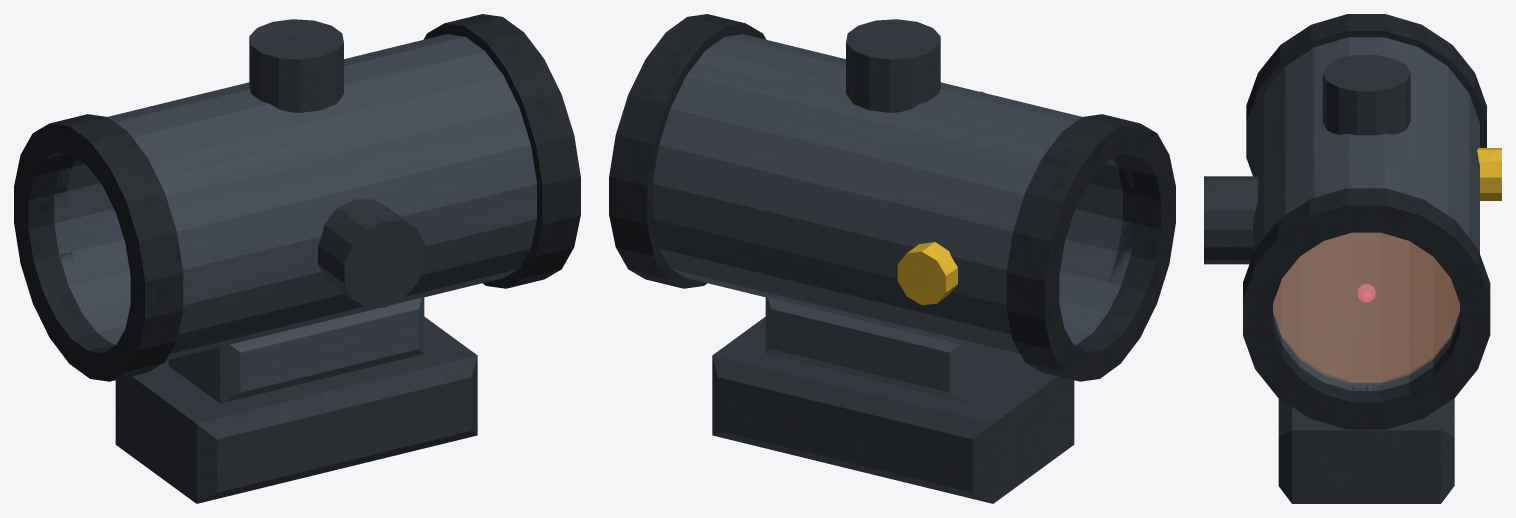
File: sight_red_dot_v2.glb
The picture shows the model from 3 angles, left to right: view 1: azimuth 30°, elevation 25°; view 2: azimuth 150°, elevation 25°; view 3: azimuth 270°, elevation 25°; orthographic projection. The views are drawn at different scales.
Parts seen in each view (by area): view 1: sight_red_dot_mesh; view 2: sight_red_dot_mesh; view 3: sight_red_dot_mesh.
Part boxes in pixels (x1,y1,x2,y2): sight_red_dot_mesh: (14, 14, 580, 503); sight_red_dot_mesh: (609, 14, 1175, 503); sight_red_dot_mesh: (1204, 14, 1501, 503).
Size of the model in its own units: 0.068 by 0.06 by 0.044.
Materials: 6 (4 with a texture image).
